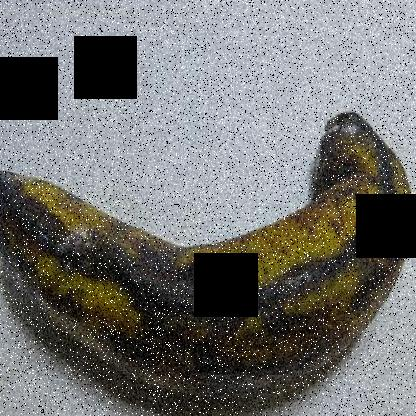overripe: (1, 86, 415, 415)
rotten: (323, 99, 381, 187)
